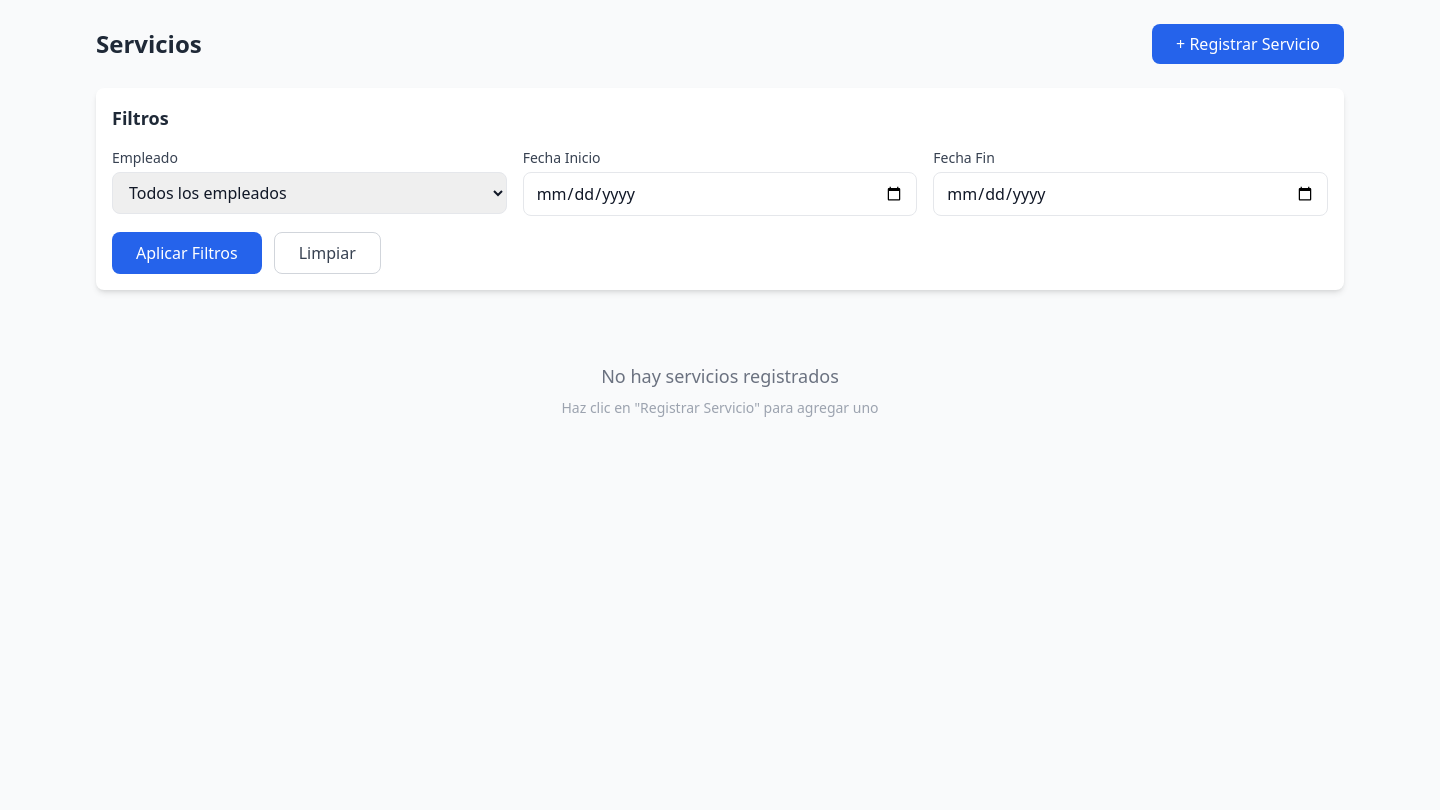
Test case: ServiciosList › muestra formulario cuando se hace clic en "Registrar Servicio"
The width and height of the screenshot is (1440, 810).
Click the button "+ Registrar Servicio" at (1248, 44), box [1152, 24, 1344, 64]
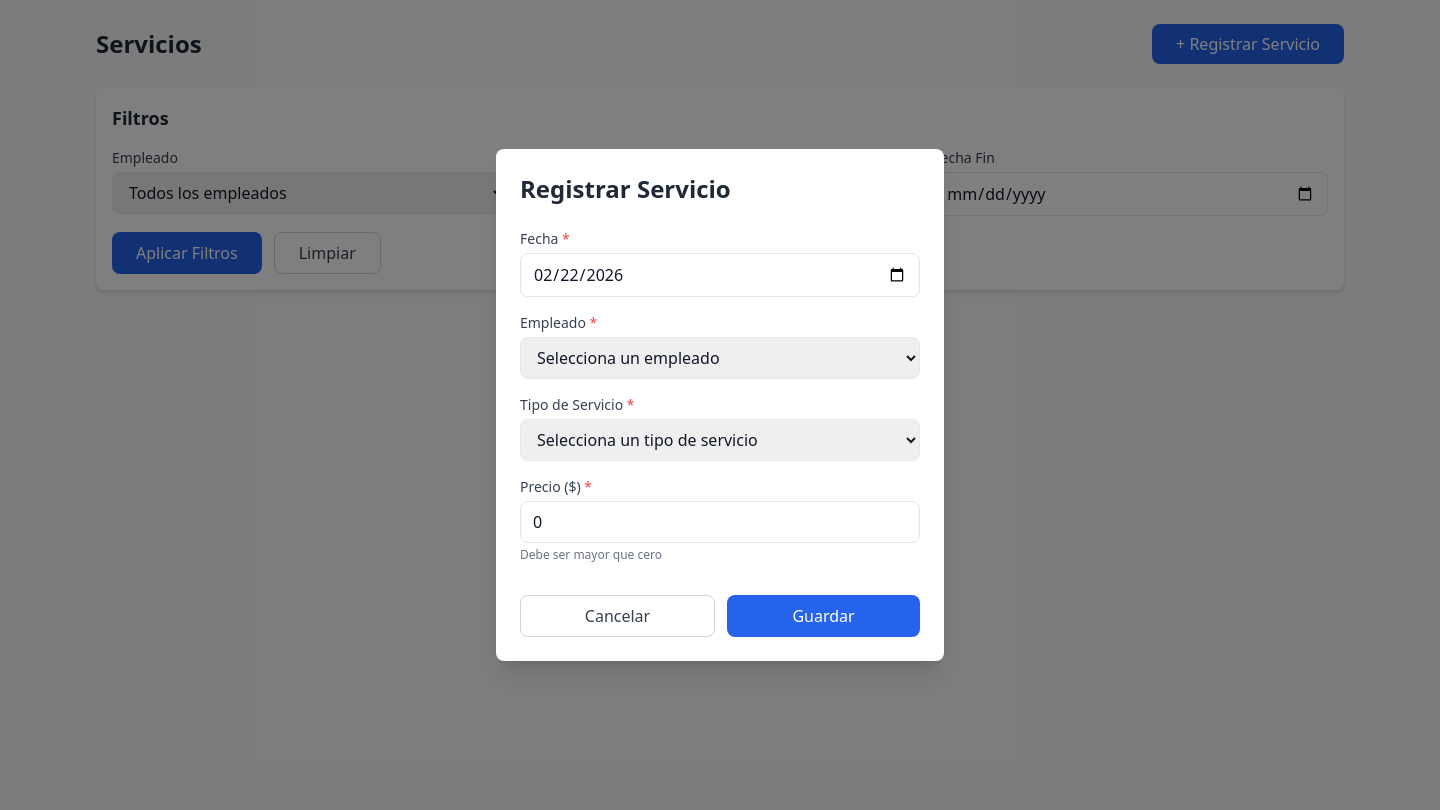
Now the element that starts with "Registrar Servicio" is shown
